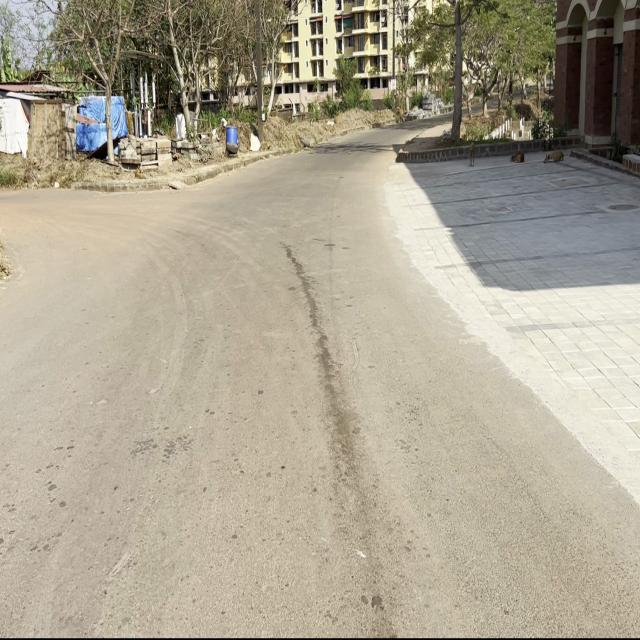Road: (1, 149, 640, 640)
